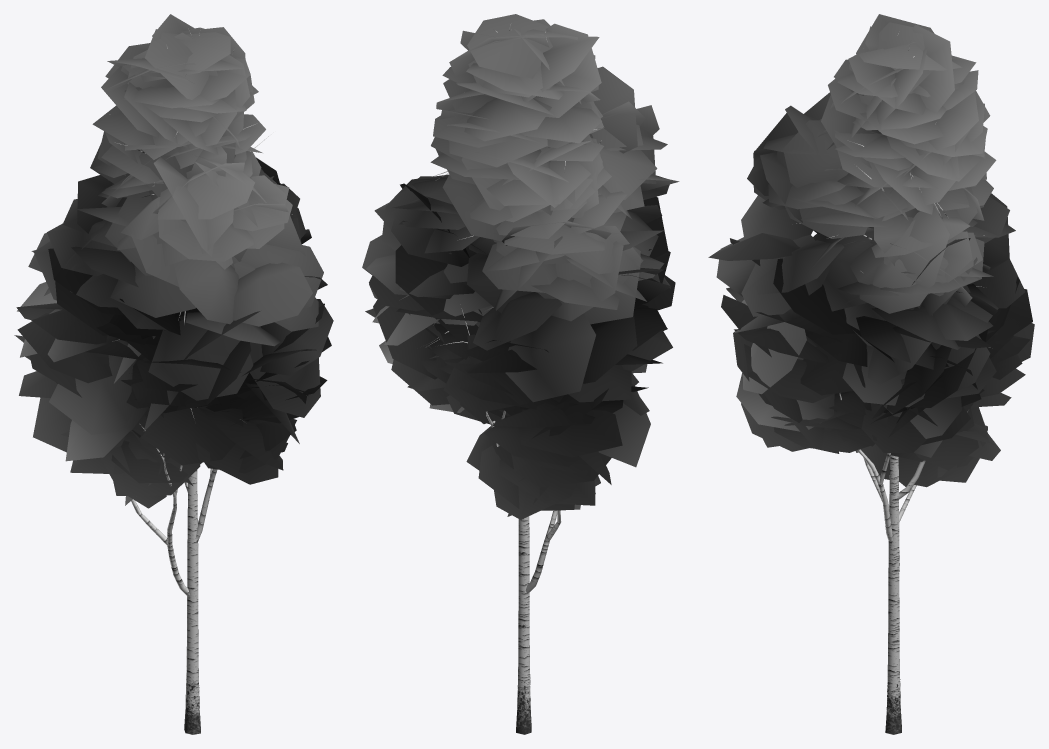
The model's file is Tree_02_LODs.fbx.
3 views of the same model, side by side, from view 1: azimuth 30°, elevation 25°; view 2: azimuth 150°, elevation 25°; view 3: azimuth 270°, elevation 25° (orthographic). The views are drawn at different scales.
Parts seen in each view (by area): view 1: Tree_02_LOD0; view 2: Tree_02_LOD0; view 3: Tree_02_LOD0.
Boxes of the visible parts, <box> form: Tree_02_LOD0: <box>14,14,333,734</box>; Tree_02_LOD0: <box>362,14,679,734</box>; Tree_02_LOD0: <box>708,14,1034,734</box>.
Size of what is drawn, in the model's own units: 536 by 1282 by 546.
